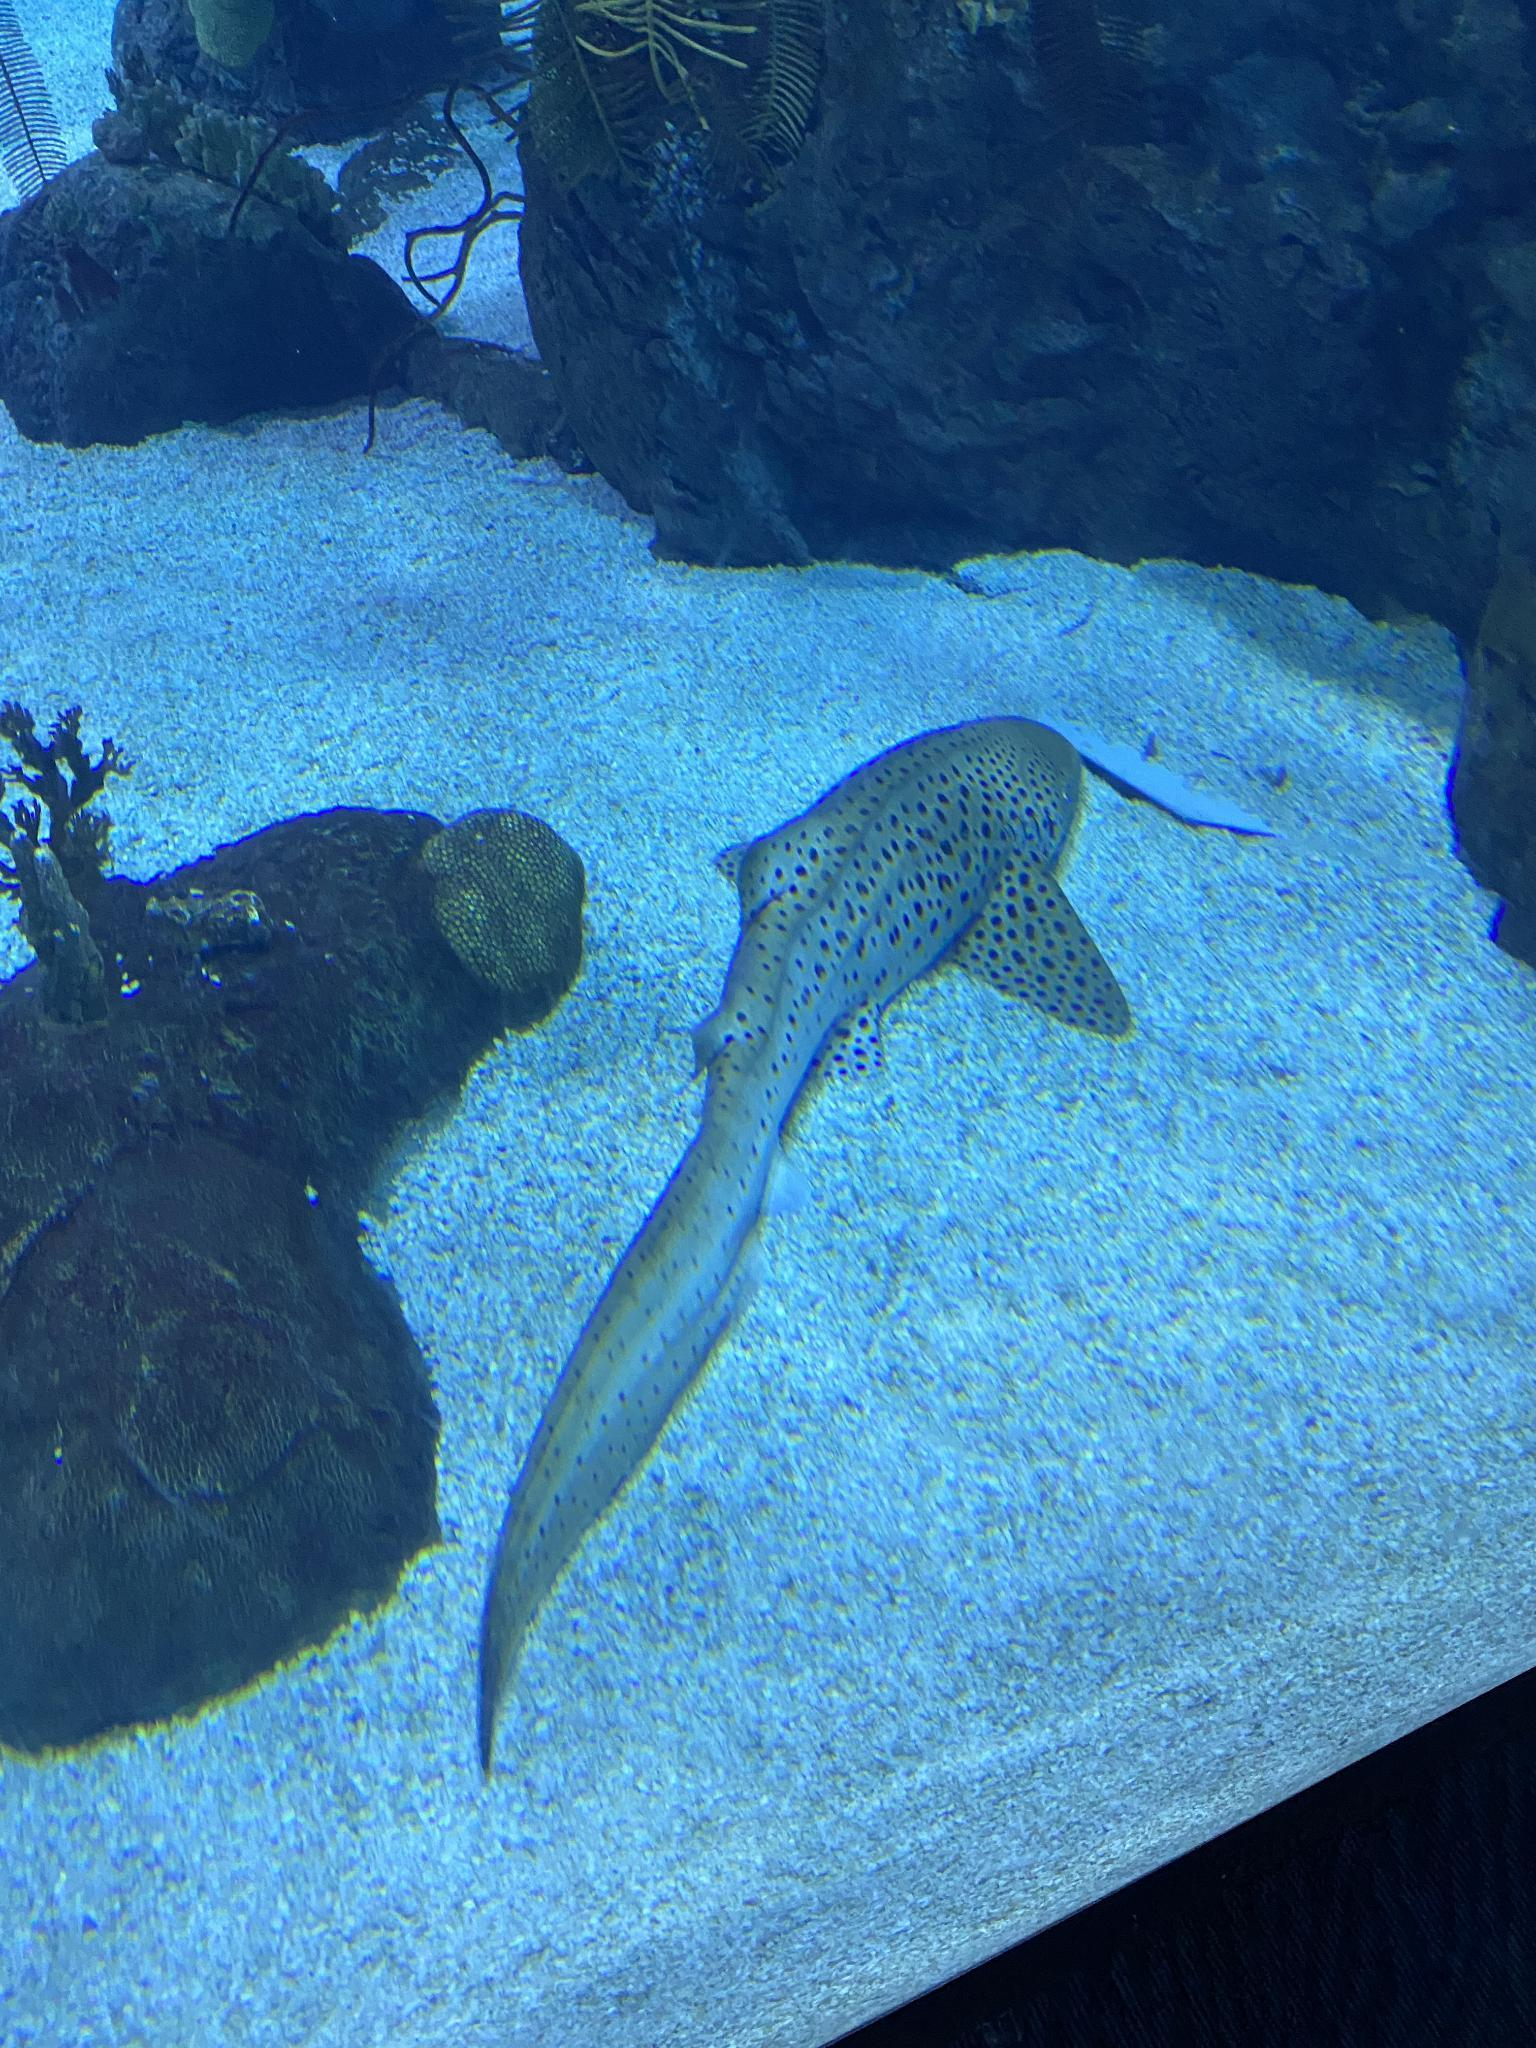fish: (431, 701, 1128, 1766)
